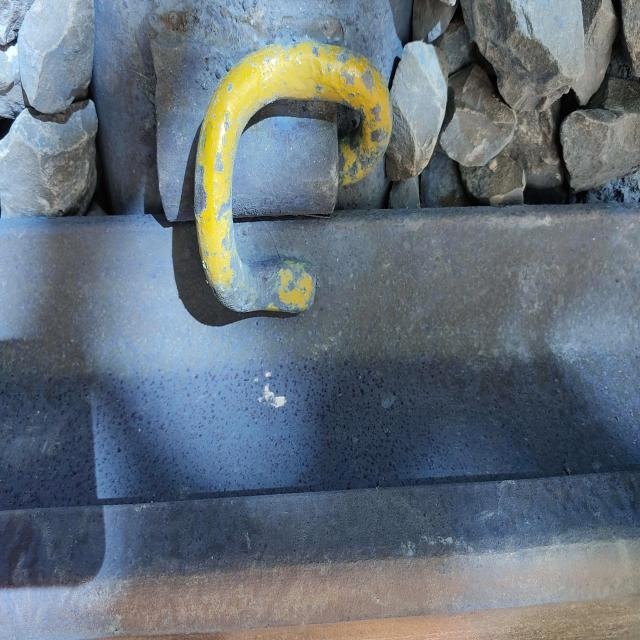Good Fasteners: (93, 0, 401, 312)
